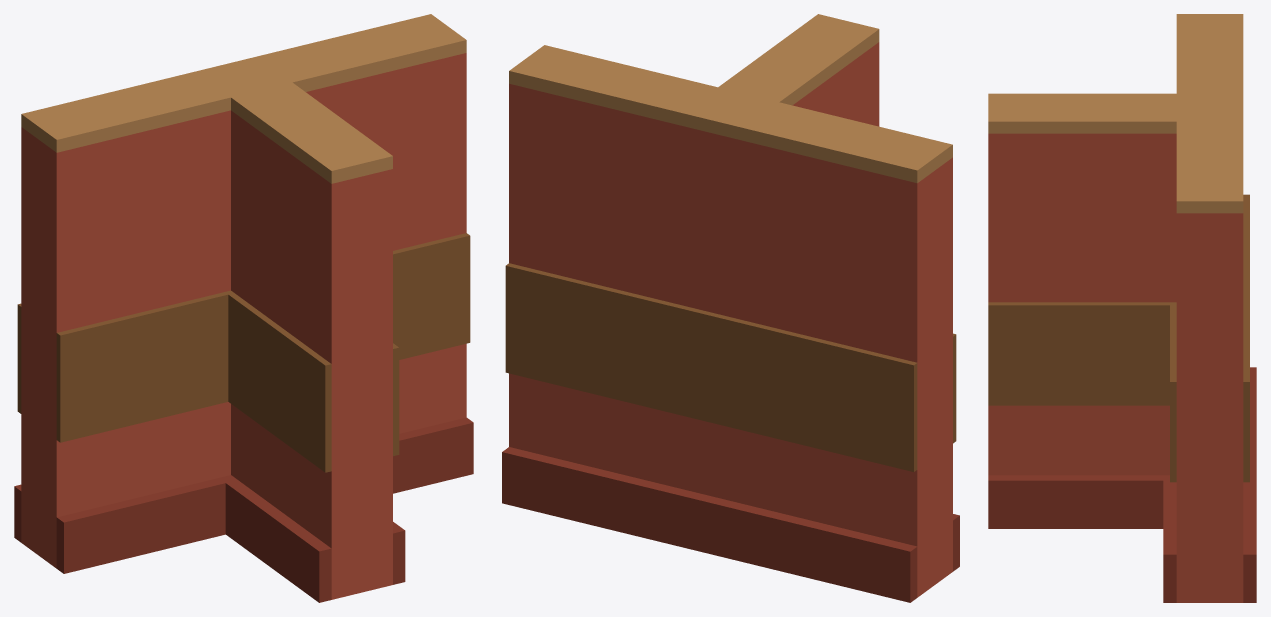
The model's file is partition-full-tee.glb.
3 views of the same model, side by side, from view 1: azimuth 30°, elevation 25°; view 2: azimuth 150°, elevation 25°; view 3: azimuth 270°, elevation 25° (orthographic). The views are drawn at different scales.
Visible parts, largest first — view 1: partition-full-tee; view 2: partition-full-tee; view 3: partition-full-tee.
Part boxes in pixels (x1,y1,x2,y2): partition-full-tee: (14, 14, 473, 602); partition-full-tee: (502, 14, 959, 602); partition-full-tee: (988, 14, 1256, 602).
Size of the model in its own units: 1 by 1 by 0.605.
Materials: 1 (1 with a texture image).
